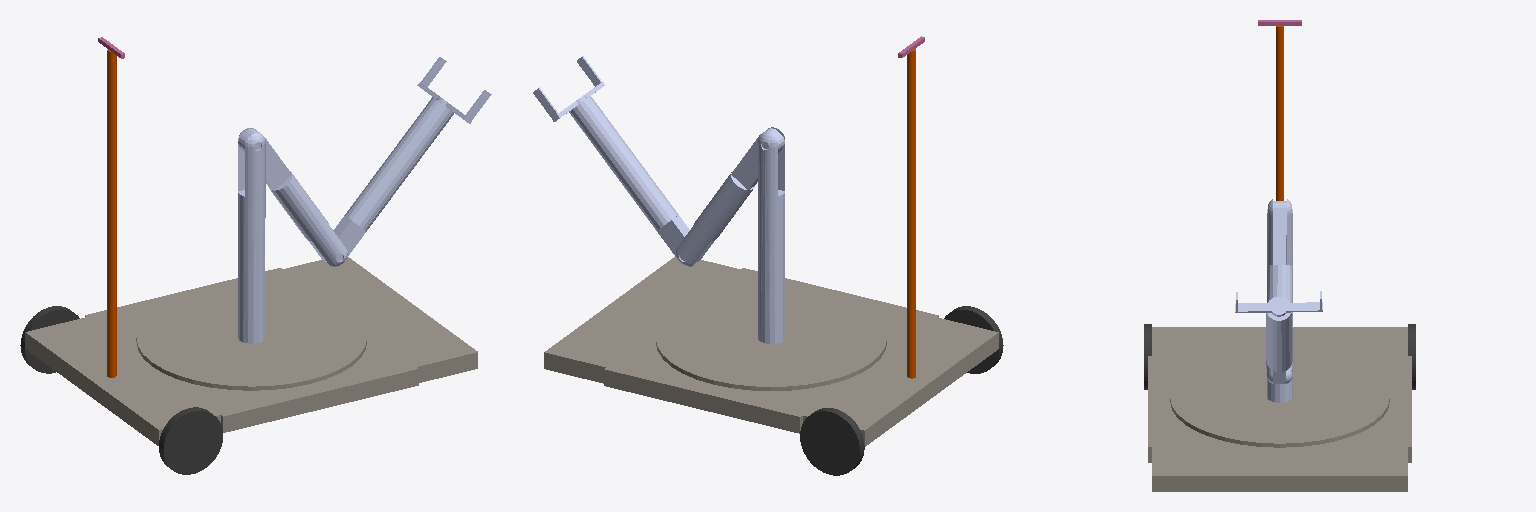
The robot description file, URDF, robot "car2_sld":
<?xml version="1.0" encoding="utf-8"?>
<!-- This URDF was automatically created by SolidWorks to URDF Exporter! Originally created by [author] ([email redacted]) 
     Commit Version: 1.6.0-4-g7f85cfe  Build Version: 1.6.7995.38578
     For more information, please see http://wiki.ros.org/sw_urdf_exporter -->
<robot
  name="car2_sld">
  <link name="dummy">
   </link>
  <joint name="dummy_joint" type="fixed">
     <parent link="dummy"/>
     <child link="base_link"/>
   </joint>
  <link
    name="base_link">
    <inertial>
      <origin
        xyz="0 0 0"
        rpy="0 0 0" />
      <mass
      value="1" />
      <inertia
        ixx="4.62640242563695"
        ixy="-5.95696794414352E-17"
        ixz="1.08386561915186E-16"
        iyy="12.6787643815464"
        iyz="-6.49913957287132E-17"
        izz="8.10980826342236" />
    </inertial>
    <visual>
      <origin
        xyz="0 0 0"
        rpy="0 0 0" />
      <geometry>
        <mesh
          filename="package://car2_sld/meshes/base_link.STL" />
      </geometry>
      <material
        name="">
        <color
          rgba="0.650980392156863 0.619607843137255 0.588235294117647 1" />
      </material>
    </visual>
    <collision>
      <origin
        xyz="0 0 0"
        rpy="0 0 0" />
      <geometry>
        <mesh
          filename="package://car2_sld/meshes/base_link.STL" />
      </geometry>
    </collision>
  </link>
  <link
    name="wlf_link">
    <inertial>
      <origin
        xyz="0 0 -0.01"
        rpy="1.57079633 0 0" />
      <mass
        value="0.4" />
      <inertia
        ixx="0.000589790234763875"
        ixy="3.94485665153874E-36"
        ixz="0"
        iyy="0.000589790234763875"
        iyz="-4.25822828585374E-37"
        izz="0.00115226746299744" />
    </inertial>
    <visual>
      <origin
        xyz="0 0 0"
        rpy="1.57079633 0 0" />
      <geometry>
        <mesh
          filename="package://car2_sld/meshes/wlf_link.STL" />
      </geometry>
      <material
        name="">
        <color
          rgba="0.298039215686275 0.298039215686275 0.298039215686275 1" />
      </material>
    </visual>
    <collision>
      <origin
        xyz="0 0 0"
        rpy="1.57079633 0 0" />
      <geometry>
        <mesh
          filename="package://car2_sld/meshes/wlf_link.STL" />
      </geometry>
    </collision>
  </link>
  <joint
    name="wlf_joint"
    type="continuous">
    <origin
      xyz="0.325 0.29 -0.02"
      rpy="0 0 0" />
    <parent
      link="base_link" />
    <child
      link="wlf_link" />
    <axis
      xyz="0 1 0" />
  </joint>
  <link
    name="wlb_link">
    <inertial>
      <origin
        xyz="0 0 0"
        rpy="1.57079633 0 0" />
      <mass
        value="0.4" />
      <inertia
        ixx="0.000589790234763875"
        ixy="3.94485665153874E-36"
        ixz="0"
        iyy="0.000589790234763875"
        iyz="-4.25822828585374E-37"
        izz="0.00115226746299744" />
    </inertial>
    <visual>
      <origin
        xyz="0 0 0"
        rpy="1.57079633 0 0" />
      <geometry>
        <mesh
          filename="package://car2_sld/meshes/wlb_link.STL" />
      </geometry>
      <material
        name="">
        <color
          rgba="0.298039215686275 0.298039215686275 0.298039215686275 1" />
      </material>
    </visual>
    <collision>
      <origin
        xyz="0 0 0"
        rpy="1.57079633 0 0" />
      <geometry>
        <mesh
          filename="package://car2_sld/meshes/wlb_link.STL" />
      </geometry>
    </collision>
  </link>
  <joint
    name="wlb_joint"
    type="continuous">
    <origin
      xyz="-0.325 0.29 -0.02"
      rpy="0 0 0" />
    <parent
      link="base_link" />
    <child
      link="wlb_link" />
    <axis
      xyz="0 1 0" />
  </joint>
  <link
    name="wrf_link">
    <inertial>
      <origin
        xyz="0 0 0.01"
        rpy="1.57079633 0 0" />
      <mass
        value="0.4" />
      <inertia
        ixx="0.000589790234763875"
        ixy="0"
        ixz="0"
        iyy="0.000589790234763875"
        iyz="-5.93792032008049E-37"
        izz="0.00115226746299744" />
    </inertial>
    <visual>
      <origin
        xyz="0 0 0"
        rpy="1.57079633 0 0" />
      <geometry>
        <mesh
          filename="package://car2_sld/meshes/wrf_link.STL" />
      </geometry>
      <material
        name="">
        <color
          rgba="0.298039215686275 0.298039215686275 0.298039215686275 1" />
      </material>
    </visual>
    <collision>
      <origin
        xyz="0 0 0"
        rpy="1.57079633 0 0" />
      <geometry>
        <mesh
          filename="package://car2_sld/meshes/wrf_link.STL" />
      </geometry>
    </collision>
  </link>
  <joint
    name="wrf_joint"
    type="continuous">
    <origin
      xyz="0.325 -0.29 -0.02"
      rpy="0 0 0" />
    <parent
      link="base_link" />
    <child
      link="wrf_link" />
    <axis
      xyz="0 1 0" />
  </joint>
  <link
    name="wrb_link">
    <inertial>
      <origin
        xyz="5.55111512312578E-17 -3.46944695195361E-18 0.01"
        rpy="1.57079633 0 0" />
      <mass
        value="0.4" />
      <inertia
        ixx="0.000589790234763875"
        ixy="3.94485665153874E-36"
        ixz="0"
        iyy="0.000589790234763875"
        iyz="-4.25822828585374E-37"
        izz="0.00115226746299744" />
    </inertial>
    <visual>
      <origin
        xyz="0 0 0"
        rpy="1.57079633 0 0" />
      <geometry>
        <mesh
          filename="package://car2_sld/meshes/wrb_link.STL" />
      </geometry>
      <material
        name="">
        <color
          rgba="0.298039215686275 0.298039215686275 0.298039215686275 1" />
      </material>
    </visual>
    <collision>
      <origin
        xyz="0 0 0"
        rpy="1.57079633 0 0" />
      <geometry>
        <mesh
          filename="package://car2_sld/meshes/wrb_link.STL" />
      </geometry>
    </collision>
  </link>
  <joint
    name="wrb_joint"
    type="continuous">
    <origin
      xyz="-0.325 -0.29 -0.02"
      rpy="0 0 0" />
    <parent
      link="base_link" />
    <child
      link="wrb_link" />
    <axis
      xyz="0 1 0" />
  </joint>
  <link
    name="arm1_link">
    <inertial>
      <origin
        xyz="-2.626980324594E-09 0.222682177900455 -7.63349871720785E-09"
        rpy="0 0 0" />
      <mass
        value="0.1" />
      <inertia
        ixx="0.0280786277337189"
        ixy="4.9682425263076E-10"
        ixz="-7.0713548738614E-11"
        iyy="0.000601075274789828"
        iyz="1.91675335098201E-09"
        izz="0.0280237082431091" />
    </inertial>
    <visual>
      <origin
        xyz="0 0 0"
        rpy="0 0 0" />
      <geometry>
        <mesh
          filename="package://car2_sld/meshes/arm1_link.STL" />
      </geometry>
      <material
        name="">
        <color
          rgba="0.796078431372549 0.823529411764706 0.937254901960784 1" />
      </material>
    </visual>
    <collision>
      <origin
        xyz="0 0 0"
        rpy="0 0 0" />
      <geometry>
        <mesh
          filename="package://car2_sld/meshes/arm1_link.STL" />
      </geometry>
    </collision>
  </link>
  <joint
    name="arm1_joint"
    type="continuous">
    <origin
      xyz="0 0 0.03"
      rpy="1.5707963267949 0 -0.0039754446169783" />
    <parent
      link="base_link" />
    <child
      link="arm1_link" />
    <axis
      xyz="0 1 0" />
  </joint>
  <link
    name="arm2_link">
    <inertial>
      <origin
        xyz="2.31823538698883E-08 0.183362257511322 6.06454495335248E-09"
        rpy="0 0 0" />
      <mass
        value="0.1" />
      <inertia
        ixx="0.00985132876361779"
        ixy="-3.56435321521848E-09"
        ixz="1.99674204928501E-10"
        iyy="0.000394257488232508"
        iyz="-1.19413355630031E-09"
        izz="0.00985451975556886" />
    </inertial>
    <visual>
      <origin
        xyz="0 0 0"
        rpy="0 0 0" />
      <geometry>
        <mesh
          filename="package://car2_sld/meshes/arm2_link.STL" />
      </geometry>
      <material
        name="">
        <color
          rgba="0.796078431372549 0.823529411764706 0.937254901960784 1" />
      </material>
    </visual>
    <collision>
      <origin
        xyz="0 0 0"
        rpy="0 0 0" />
      <geometry>
        <mesh
          filename="package://car2_sld/meshes/arm2_link.STL" />
      </geometry>
    </collision>
  </link>
  <joint
    name="arm2_joint"
    type="continuous">
    <origin
      xyz="0 0.469999999999997 0"
      rpy="-3.14159265358979 0 0.576591541595324" />
    <parent
      link="arm1_link" />
    <child
      link="arm2_link" />
    <axis
      xyz="0 0 1" />
  </joint>
  <link
    name="arm3_link">
    <inertial>
      <origin
        xyz="1.83880688453542E-16 0.208988752815505 9.39027501589695E-16"
        rpy="0 0 0" />
      <mass
        value="0.1" />
      <inertia
        ixx="0.0160392787269217"
        ixy="-1.10409516311388E-17"
        ixz="0"
        iyy="0.000521865417021989"
        iyz="-1.8655900663276E-19"
        izz="0.0160610185794677" />
    </inertial>
    <visual>
      <origin
        xyz="0 0 0"
        rpy="0 0 0" />
      <geometry>
        <mesh
          filename="package://car2_sld/meshes/arm3_link.STL" />
      </geometry>
      <material
        name="">
        <color
          rgba="0.796078431372549 0.823529411764706 0.937254901960784 1" />
      </material>
    </visual>
    <collision>
      <origin
        xyz="0 0 0"
        rpy="0 0 0" />
      <geometry>
        <mesh
          filename="package://car2_sld/meshes/arm3_link.STL" />
      </geometry>
    </collision>
  </link>
  <joint
    name="arm3_joint"
    type="continuous">
    <origin
      xyz="0 0.375000000000002 0"
      rpy="-3.14159265358979 0 1.33461891451581" />
    <parent
      link="arm2_link" />
    <child
      link="arm3_link" />
    <axis
      xyz="0 0 1" />
  </joint>
  <link
    name="hand_link">
    <inertial>
      <origin
        xyz="1.05818132034585E-16 -9.71445146547012E-17 0.0266893668156185"
        rpy="0 0 0" />
      <mass
        value="0.05" />
      <inertia
        ixx="3.12636176175129E-06"
        ixy="1.05805664768393E-18"
        ixz="1.55197280888424E-19"
        iyy="0.00015412961839027"
        iyz="-1.62553398075858E-20"
        izz="0.000156395138475128" />
    </inertial>
    <visual>
      <origin
        xyz="0 0 0"
        rpy="0 0 0" />
      <geometry>
        <mesh
          filename="package://car2_sld/meshes/hand_link.STL" />
      </geometry>
      <material
        name="">
        <color
          rgba="0.796078431372549 0.823529411764706 0.937254901960784 1" />
      </material>
    </visual>
    <collision>
      <origin
        xyz="0 0 0"
        rpy="0 0 0" />
      <geometry>
        <mesh
          filename="package://car2_sld/meshes/hand_link.STL" />
      </geometry>
    </collision>
  </link>
  <joint
    name="hand_joint"
    type="fixed">
    <origin
      xyz="0 0.37831 0"
      rpy="1.5708 1.5536 3.1416" />
    <parent
      link="arm3_link" />
    <child
      link="hand_link" />
    <axis
      xyz="0 0 1" />
  </joint>
  <link
    name="finger1_link">
    <inertial>
      <origin
        xyz="0.0026233 9.7145E-17 0.035"
        rpy="0 0 0" />
      <mass
        value="0.01" />
      <inertia
        ixx="3.5554E-06"
        ixy="-2.5808E-22"
        ixz="-8.5618E-21"
        iyy="3.3039E-06"
        iyz="-1.9604E-21"
        izz="2.851E-07" />
    </inertial>
    <visual>
      <origin
        xyz="0 0 0"
        rpy="0 0 0" />
      <geometry>
        <mesh
          filename="package://car2_sld/meshes/finger1_link.STL" />
      </geometry>
      <material
        name="">
        <color
          rgba="0.79608 0.82353 0.93725 1" />
      </material>
    </visual>
    <collision>
      <origin
        xyz="0 0 0"
        rpy="0 0 0" />
      <geometry>
        <mesh
          filename="package://car2_sld/meshes/finger1_link.STL" />
      </geometry>
    </collision>
  </link>
  <joint
    name="finger1_joint"
    type="prismatic">
    <origin
      xyz="-0.092909 0 0.031689"
      rpy="0 0 3.1416" />
    <parent
      link="hand_link" />
    <child
      link="finger1_link" />
    <axis
      xyz="1 0 0" />
    <limit
      lower="-0.092"
      upper="0"
      effort="0"
      velocity="0" />
  </joint>
  <link
    name="finger2_link">
    <inertial>
      <origin
        xyz="-0.0026233 -1.4572E-16 0.035"
        rpy="0 0 0" />
      <mass
        value="0.01" />
      <inertia
        ixx="3.5554E-06"
        ixy="1.9654E-21"
        ixz="-1.3084E-20"
        iyy="3.3039E-06"
        iyz="2.4107E-20"
        izz="2.851E-07" />
    </inertial>
    <visual>
      <origin
        xyz="0 0 0"
        rpy="0 0 0" />
      <geometry>
        <mesh
          filename="package://car2_sld/meshes/finger2_link.STL" />
      </geometry>
      <material
        name="">
        <color
          rgba="0.79608 0.82353 0.93725 1" />
      </material>
    </visual>
    <collision>
      <origin
        xyz="0 0 0"
        rpy="0 0 0" />
      <geometry>
        <mesh
          filename="package://car2_sld/meshes/finger2_link.STL" />
      </geometry>
    </collision>
  </link>
  <joint
    name="finger2_joint"
    type="prismatic">
    <origin
      xyz="0.093125 0 0.031689"
      rpy="0 0 3.1416" />
    <parent
      link="hand_link" />
    <child
      link="finger2_link" />
    <axis
      xyz="1 0 0" />
    <limit
      lower="0"
      upper="0.092"
      effort="0"
      velocity="0" />
  </joint>
  <link name="grasping_frame" />
    <joint name="grasping_frame_joint" type="fixed">
        <parent link="hand_link" />
        <child link="grasping_frame" />
        <origin rpy="0 0 0" xyz="0.000108 0 0.031689" />
    </joint>

<!-- laserholder Link -->  
  <link name="laserholder_link">
    <visual>
      <geometry>
        <cylinder length="0.8" radius="0.01"/>
      </geometry>
    </visual>
  </link>

  <!-- laserholder Joint -->
  <joint name="laserholder_joint" type="fixed">
    <parent link="base_link"/>  <!-- Adjust the parent link as needed -->
    <child link="laserholder_link"/>
    <origin xyz="-0.35 0 0.4" rpy="0 0 0"/>  <!-- Adjust the position and orientation -->
  </joint>

  <!-- laser Link -->  
  <link name="laser_link">
    <visual>
      <geometry>
        <box size="0.01 0.1 0.01"/>
      </geometry>
    </visual>
  </link>

  <!-- laser Joint -->
  <joint name="laser_joint" type="fixed">
    <parent link="base_link"/>  <!-- Adjust the parent link as needed -->
    <child link="laser_link"/>
    <origin xyz="-0.35 0 0.805" rpy="0 0 0"/>  <!-- Adjust the position and orientation -->
  </joint>

  <link name="camera_link">
    <visual>
    <origin 
      xyz = "0 0 0"
      rpy = "0 0 0" />
      <geometry>
        <box size="0.01 0.1 0.01"/>
      </geometry>
    </visual>
  </link>

  <!-- Camera Joint -->
  <joint name="camera_joint" type="fixed">
    <parent link="base_link"/>  <!-- Adjust the parent link as needed -->
    <child link="camera_link"/>
    <origin xyz="0.3 0 0.01" rpy="0 0 0"/>  <!-- Adjust the position and orientation -->
  </joint>

  <!-- Transmission is important to link the joints and the controller -->
  <transmission name="wlb_joint_trans">
      <type>transmission_interface/SimpleTransmission</type>
      <joint name="wlb_joint" >
          <hardwareInterface>hardware_interface/VelocityJointInterface</hardwareInterface>
      </joint>
      <actuator name="wlb_joint_motor">
          <hardwareInterface>hardware_interface/VelocityJointInterface</hardwareInterface>
          <mechanicalReduction>1</mechanicalReduction>
      </actuator>
  </transmission>

  <!-- Transmission is important to link the joints and the controller -->
  <transmission name="wrb_joint_trans">
      <type>transmission_interface/SimpleTransmission</type>
      <joint name="wrb_joint_joint" >
          <hardwareInterface>hardware_interface/VelocityJointInterface</hardwareInterface>
      </joint>
      <actuator name="wrb_joint_joint_motor">
          <hardwareInterface>hardware_interface/VelocityJointInterface</hardwareInterface>
          <mechanicalReduction>1</mechanicalReduction>
      </actuator>
  </transmission>

  <gazebo reference="laser_link">
            <sensor type="ray" name="rplidar">
                <pose>0 0 0 0 0 0</pose>
                <visualize>false</visualize>
                <update_rate>5.5</update_rate>
                <ray>
                    <scan>
                      <horizontal>
                        <samples>360</samples>
                        <resolution>1</resolution>
                        <min_angle>-3</min_angle>
                        <max_angle>3</max_angle>
                      </horizontal>
                    </scan>
                    <range>
                      <min>0.10</min>
                      <max>6.0</max>
                      <resolution>0.01</resolution>
                    </range>
                    <noise>
                      <type>gaussian</type>
                      <mean>0.0</mean>
                      <stddev>0.01</stddev>
                    </noise>
                </ray>
                <plugin name="gazebo_rplidar" filename="libgazebo_ros_laser.so">
                    <topicName>/scan</topicName>
                    <frameName>laser_link</frameName>
                </plugin>
            </sensor>
        </gazebo>

        
  <gazebo reference="camera_link">
      <sensor type="camera" name="camera_node">
          <update_rate>30.0</update_rate>
          <camera name="head">
              <horizontal_fov>1.3962634</horizontal_fov>
              <image>
                  <width>1280</width>
                  <height>720</height>
                  <format>R8G8B8</format>
              </image>
              <clip>
                  <near>0.02</near>
                  <far>300</far>
              </clip>
              <noise>
                  <type>gaussian</type>
                  <mean>0.0</mean>
                  <stddev>0.007</stddev>
              </noise>
          </camera>
          <plugin name="gazebo_camera" filename="libgazebo_ros_camera.so">
              <alwaysOn>true</alwaysOn>
              <updateRate>0.0</updateRate>
              <cameraName>/camera</cameraName>
              <imageTopicName>image_raw</imageTopicName>
              <cameraInfoTopicName>camera_info</cameraInfoTopicName>
              <frameName>camera_link</frameName>
              <hackBaseline>0.07</hackBaseline>
              <distortionK1>0.0</distortionK1>
              <distortionK2>0.0</distortionK2>
              <distortionK3>0.0</distortionK3>
              <distortionT1>0.0</distortionT1>
              <distortionT2>0.0</distortionT2>
          </plugin>
      </sensor>
  </gazebo>

  <gazebo>
      <plugin name="differential_drive_controller" 
              filename="libgazebo_ros_diff_drive.so">
          <rosDebugLevel>Debug</rosDebugLevel>
          <publishWheelTF>true</publishWheelTF>
          <robotNamespace>/</robotNamespace>
          <publishTf>1</publishTf>
          <publishWheelJointState>true</publishWheelJointState>
          <alwaysOn>true</alwaysOn>
          <updateRate>100.0</updateRate>
          <legacyMode>true</legacyMode>
          <leftJoint>wlb_joint</leftJoint>
          <rightJoint>wrb_joint</rightJoint>
          <wheelSeparation>0.29*2</wheelSeparation>
          <wheelDiameter>0.2</wheelDiameter>
          <broadcastTF>1</broadcastTF>
          <wheelTorque>100</wheelTorque>
          <wheelAcceleration>5</wheelAcceleration>
          <commandTopic>cmd_vel</commandTopic>
          <odometryFrame>odom</odometryFrame> 
          <odometryTopic>odom</odometryTopic> 
          <robotBaseFrame>dummy</robotBaseFrame>
      </plugin>
  </gazebo> 

  <gazebo>
      <self_collide>true</self_collide>
  </gazebo>

</robot>

--- Render facts (derived) ---
The picture shows the robot from 3 angles, left to right: view 1: azimuth 30°, elevation 25°; view 2: azimuth 150°, elevation 25°; view 3: azimuth 270°, elevation 25°; orthographic projection.
Robot: car2_sld — 16 links, 15 joints (7 continuous, 2 prismatic, 6 fixed); root link dummy; default pose: all joints at 0.
Visible links, largest first — view 1: base_link, arm1_link, arm3_link, arm2_link, wrb_link, laserholder_link, wlb_link; view 2: base_link, arm1_link, arm3_link, arm2_link, wlb_link, laserholder_link, wrb_link; view 3: base_link, arm2_link, arm3_link, laserholder_link, arm1_link, hand_link.
Boxes of the visible links, left/top/right/bottom form: base_link: left=25, top=257, right=477, bottom=445; arm1_link: left=238, top=128, right=265, bottom=343; arm3_link: left=321, top=97, right=453, bottom=261; arm2_link: left=238, top=129, right=347, bottom=266; wrb_link: left=159, top=407, right=222, bottom=474; laserholder_link: left=107, top=50, right=116, bottom=377; wlb_link: left=20, top=306, right=79, bottom=373; base_link: left=544, top=257, right=998, bottom=446; arm1_link: left=758, top=127, right=784, bottom=343; arm3_link: left=569, top=96, right=701, bottom=260; arm2_link: left=675, top=128, right=784, bottom=266; wlb_link: left=800, top=408, right=864, bottom=475; laserholder_link: left=907, top=49, right=915, bottom=378; wrb_link: left=944, top=306, right=1003, bottom=373; base_link: left=1148, top=327, right=1411, bottom=491; arm2_link: left=1266, top=201, right=1292, bottom=383; arm3_link: left=1266, top=297, right=1292, bottom=383; laserholder_link: left=1276, top=26, right=1283, bottom=200; arm1_link: left=1267, top=199, right=1292, bottom=402; hand_link: left=1235, top=299, right=1322, bottom=316.
Size in the robot's own frame: 0.9425 by 0.62 by 0.9049 metres.
Meshes: 11 distinct files referenced, 9 mesh visuals loaded (9 binary STL); not drawn: 2 (reference not matched to a file when rendering).
